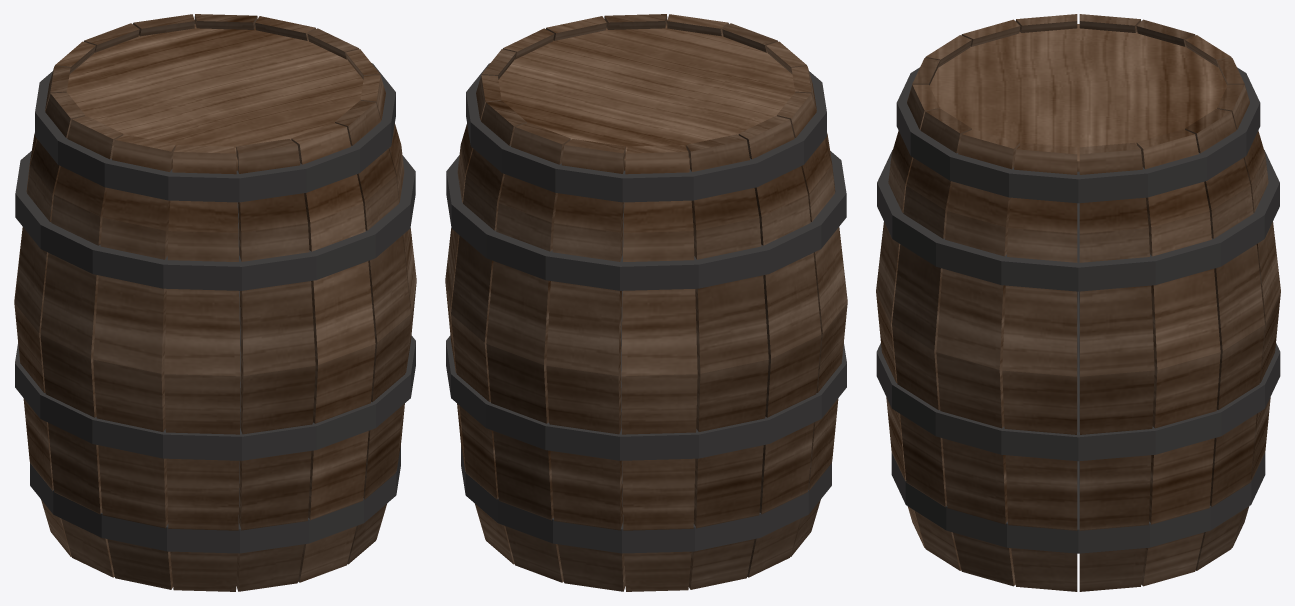
The model's file is barrel.glb.
3 views of the same model, side by side, from view 1: azimuth 30°, elevation 25°; view 2: azimuth 150°, elevation 25°; view 3: azimuth 270°, elevation 25° (orthographic).
Parts seen in each view (by area): view 1: barrel; view 2: barrel; view 3: barrel.
Boxes of the visible parts, <box> form: barrel: <box>14,14,416,591</box>; barrel: <box>445,14,847,591</box>; barrel: <box>876,14,1280,591</box>.
Bounding box in the file's own units: 0.78 × 0.93 × 0.78.
Materials: 2 (1 with a texture image).
